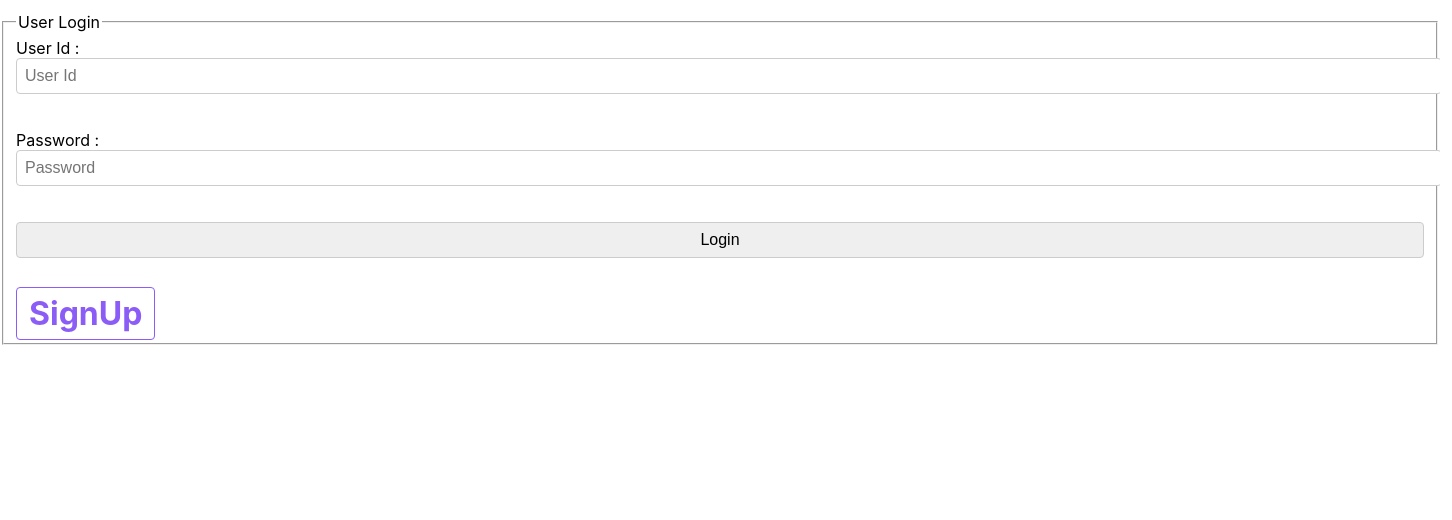
Test: Login Component › error message when user id is not given
The width and height of the screenshot is (1452, 520).
Click the button "Login". click: (720, 240)
box: left=16, top=222, right=1424, bottom=258
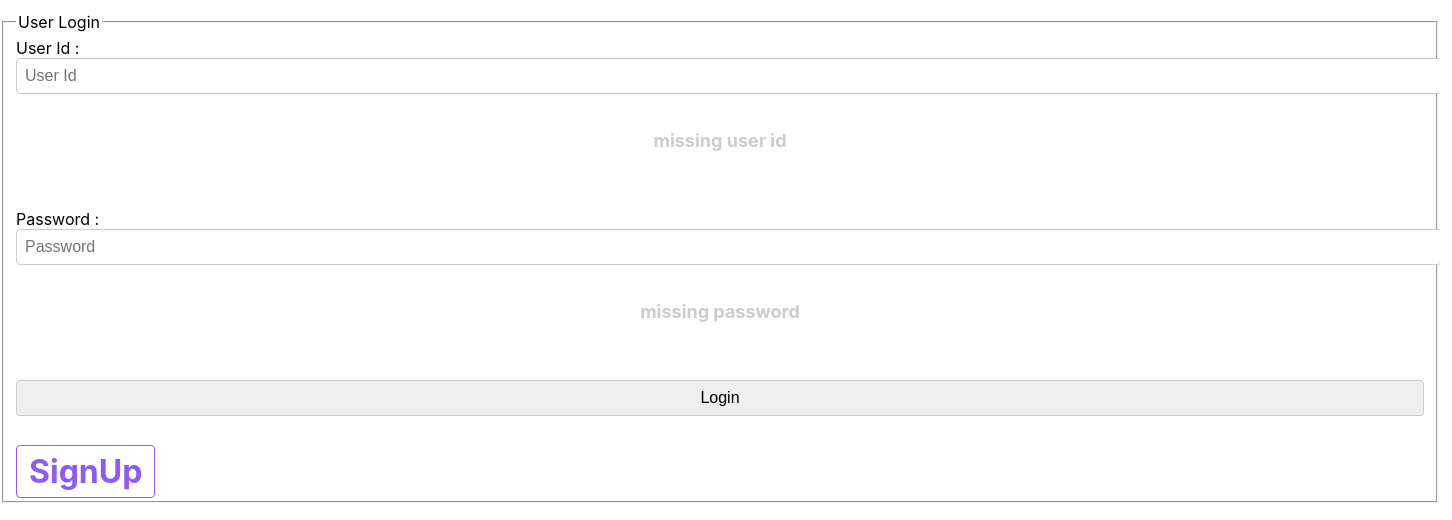
Expected: the text with test id "uid-error" reads "missing user id", left=654, top=130, right=786, bottom=151
